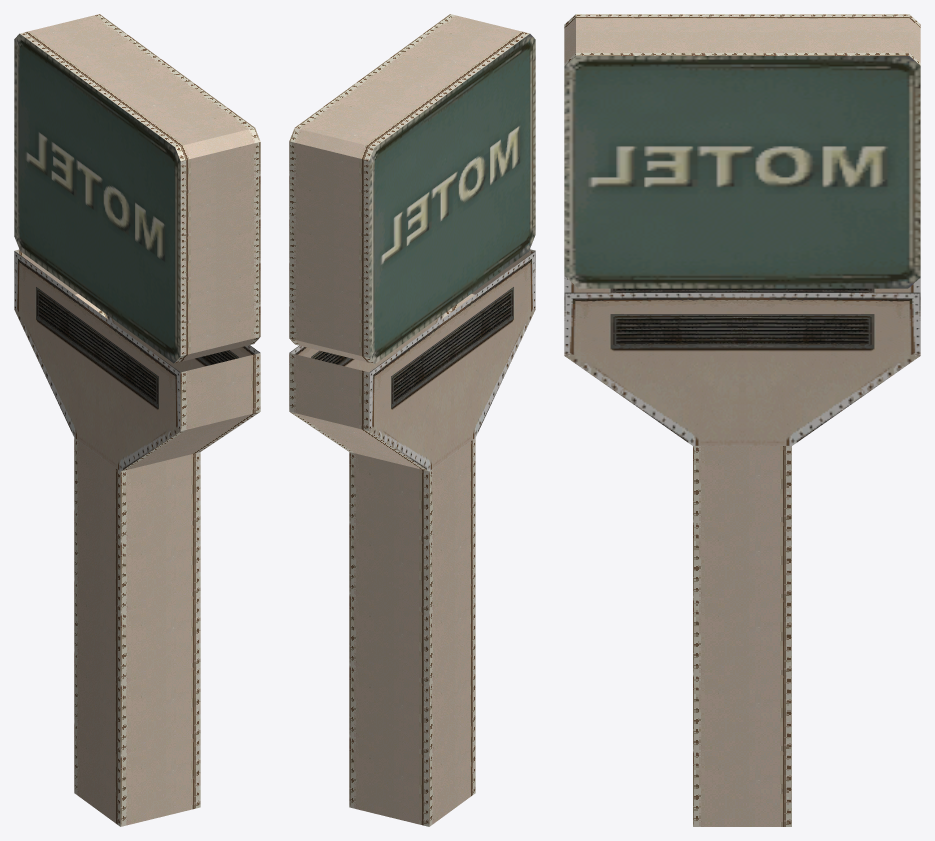
The model's file is vgbndsign02_lvs.obj.
The picture shows the model from 3 angles, left to right: view 1: azimuth 30°, elevation 25°; view 2: azimuth 150°, elevation 25°; view 3: azimuth 270°, elevation 25°; orthographic projection. The views are drawn at different scales.
Parts seen in each view (by area): view 1: vgbndsign02_lvs; view 2: vgbndsign02_lvs; view 3: vgbndsign02_lvs.
Boxes of the visible parts, box(x1,y1,x2,y2) form: vgbndsign02_lvs: box(14, 14, 260, 826); vgbndsign02_lvs: box(289, 14, 535, 826); vgbndsign02_lvs: box(564, 14, 920, 826).
Size of the model in its own units: 1.17 by 10.04 by 4.21.
Materials: 3 (3 with a texture image).
